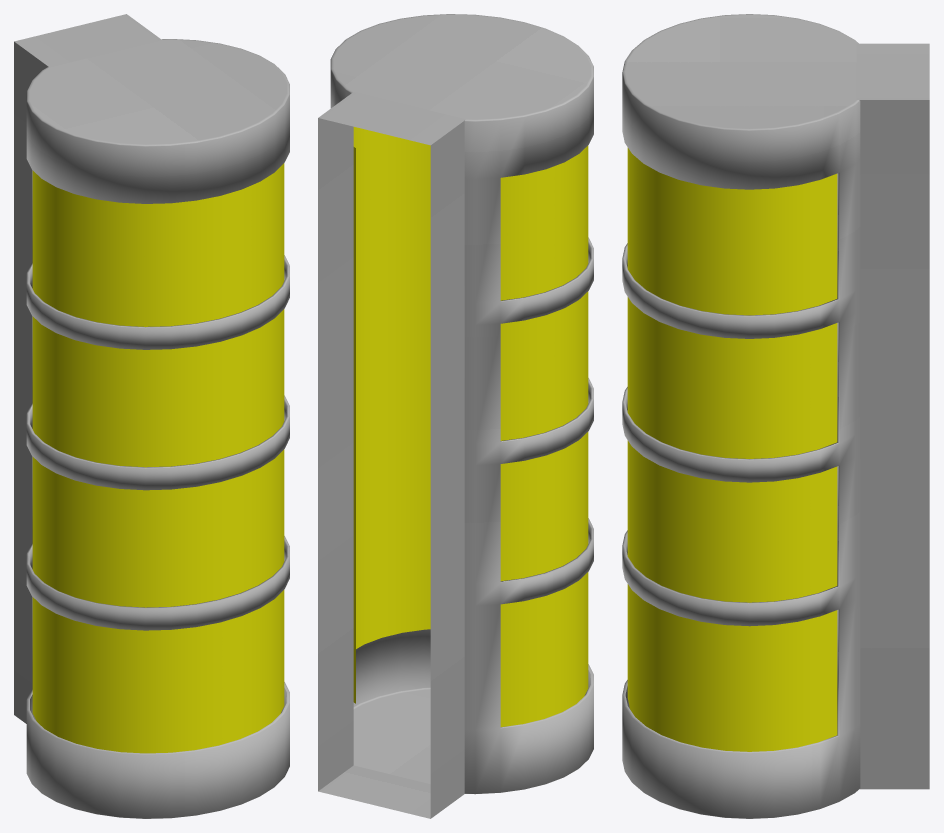
Rendered from Lampara Muro.obj.
The picture shows the model from 3 angles, left to right: view 1: azimuth 30°, elevation 25°; view 2: azimuth 150°, elevation 25°; view 3: azimuth 270°, elevation 25°; orthographic projection. The views are drawn at different scales.
Parts seen in each view (by area): view 1: sconce_01; view 2: sconce_01; view 3: sconce_01.
Boxes of the visible parts, left/top/right/bottom form: sconce_01: left=14, top=14, right=289, bottom=818; sconce_01: left=318, top=14, right=593, bottom=818; sconce_01: left=622, top=14, right=929, bottom=818.
Bounding box in the file's own units: 0.1969 × 0.5432 × 0.2195.
Materials: 2 (2 with a texture image).
